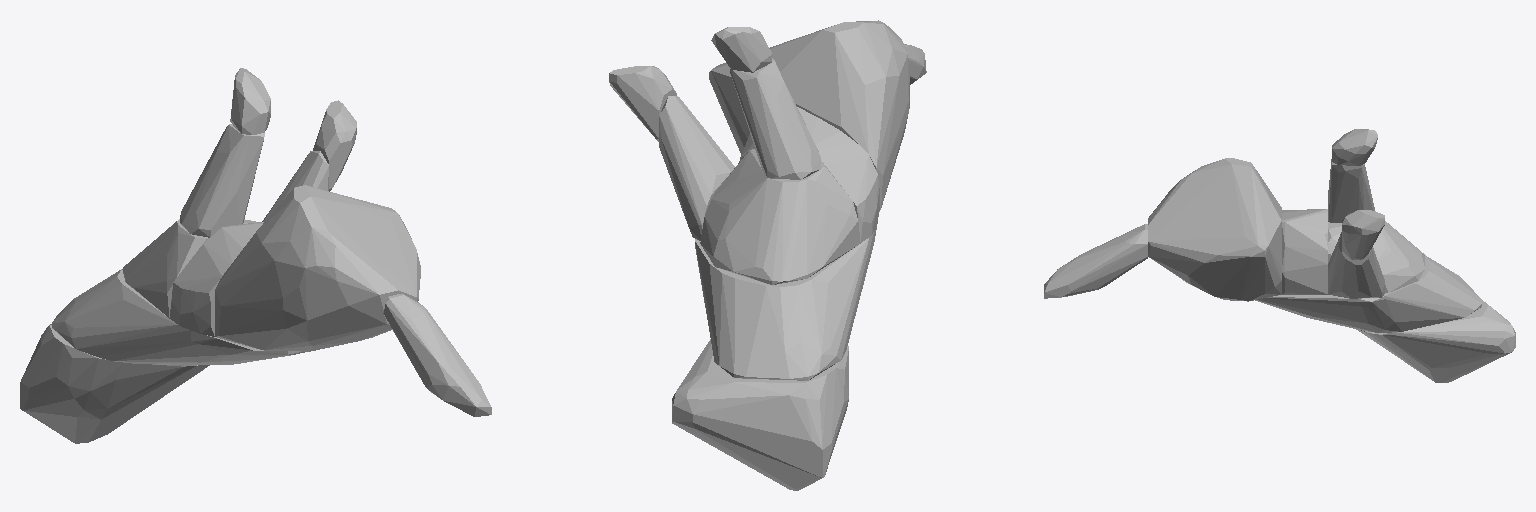
robot.urdf — root:
<robot name="root">
  <link name="link_thingiverse~dog_sculpture_2989367_convex_piece_0">
    <inertial>
      <origin rpy="0 0 0" xyz="0 0 0"/>
      <mass value="1.12E-01"/>
      <inertia ixx="3.48E-04" ixy="-7.70E-05" ixz="6.27E-05" iyy="1.72E-04" iyz="-1.59E-04" izz="2.59E-04"/>
    </inertial>
    <visual>
      <origin rpy="0 0 0" xyz="0 0 0"/>
      <geometry>
        <mesh filename="thingiverse~dog_sculpture_2989367_convex_piece_0.obj" scale="1.0000E+00 1.0000E+00 1.0000E+00"/>
      </geometry>
      <material name="">
        <color rgba="7.50E-01 7.50E-01 7.50E-01 1"/>
      </material>
    </visual>
    <collision>
      <origin rpy="0 0 0" xyz="0 0 0"/>
      <geometry>
        <mesh filename="thingiverse~dog_sculpture_2989367_convex_piece_0.obj" scale="1.0000E+00 1.0000E+00 1.0000E+00"/>
      </geometry>
    </collision>
  </link>
  <link name="link_thingiverse~dog_sculpture_2989367_convex_piece_1">
    <inertial>
      <origin rpy="0 0 0" xyz="0 0 0"/>
      <mass value="1.34E-01"/>
      <inertia ixx="1.01E-04" ixy="-2.13E-05" ixz="9.51E-06" iyy="4.20E-05" iyz="-2.82E-05" izz="1.04E-04"/>
    </inertial>
    <visual>
      <origin rpy="0 0 0" xyz="0 0 0"/>
      <geometry>
        <mesh filename="thingiverse~dog_sculpture_2989367_convex_piece_1.obj" scale="1.0000E+00 1.0000E+00 1.0000E+00"/>
      </geometry>
      <material name="">
        <color rgba="7.50E-01 7.50E-01 7.50E-01 1"/>
      </material>
    </visual>
    <collision>
      <origin rpy="0 0 0" xyz="0 0 0"/>
      <geometry>
        <mesh filename="thingiverse~dog_sculpture_2989367_convex_piece_1.obj" scale="1.0000E+00 1.0000E+00 1.0000E+00"/>
      </geometry>
    </collision>
  </link>
  <joint name="link_thingiverse~dog_sculpture_2989367_convex_piece_1_joint" type="fixed">
    <origin rpy="0 0 0" xyz="0 0 0"/>
    <parent link="link_thingiverse~dog_sculpture_2989367_convex_piece_0"/>
    <child link="link_thingiverse~dog_sculpture_2989367_convex_piece_1"/>
  </joint>
  <link name="link_thingiverse~dog_sculpture_2989367_convex_piece_2">
    <inertial>
      <origin rpy="0 0 0" xyz="0 0 0"/>
      <mass value="1.27E-02"/>
      <inertia ixx="9.12E-05" ixy="-2.03E-05" ixz="2.54E-06" iyy="6.68E-06" iyz="-1.09E-05" izz="9.41E-05"/>
    </inertial>
    <visual>
      <origin rpy="0 0 0" xyz="0 0 0"/>
      <geometry>
        <mesh filename="thingiverse~dog_sculpture_2989367_convex_piece_2.obj" scale="1.0000E+00 1.0000E+00 1.0000E+00"/>
      </geometry>
      <material name="">
        <color rgba="7.50E-01 7.50E-01 7.50E-01 1"/>
      </material>
    </visual>
    <collision>
      <origin rpy="0 0 0" xyz="0 0 0"/>
      <geometry>
        <mesh filename="thingiverse~dog_sculpture_2989367_convex_piece_2.obj" scale="1.0000E+00 1.0000E+00 1.0000E+00"/>
      </geometry>
    </collision>
  </link>
  <joint name="link_thingiverse~dog_sculpture_2989367_convex_piece_2_joint" type="fixed">
    <origin rpy="0 0 0" xyz="0 0 0"/>
    <parent link="link_thingiverse~dog_sculpture_2989367_convex_piece_1"/>
    <child link="link_thingiverse~dog_sculpture_2989367_convex_piece_2"/>
  </joint>
  <link name="link_thingiverse~dog_sculpture_2989367_convex_piece_3">
    <inertial>
      <origin rpy="0 0 0" xyz="0 0 0"/>
      <mass value="1.80E-01"/>
      <inertia ixx="3.42E-04" ixy="-7.45E-05" ixz="3.85E-05" iyy="1.35E-04" iyz="-1.26E-04" izz="3.06E-04"/>
    </inertial>
    <visual>
      <origin rpy="0 0 0" xyz="0 0 0"/>
      <geometry>
        <mesh filename="thingiverse~dog_sculpture_2989367_convex_piece_3.obj" scale="1.0000E+00 1.0000E+00 1.0000E+00"/>
      </geometry>
      <material name="">
        <color rgba="7.50E-01 7.50E-01 7.50E-01 1"/>
      </material>
    </visual>
    <collision>
      <origin rpy="0 0 0" xyz="0 0 0"/>
      <geometry>
        <mesh filename="thingiverse~dog_sculpture_2989367_convex_piece_3.obj" scale="1.0000E+00 1.0000E+00 1.0000E+00"/>
      </geometry>
    </collision>
  </link>
  <joint name="link_thingiverse~dog_sculpture_2989367_convex_piece_3_joint" type="fixed">
    <origin rpy="0 0 0" xyz="0 0 0"/>
    <parent link="link_thingiverse~dog_sculpture_2989367_convex_piece_2"/>
    <child link="link_thingiverse~dog_sculpture_2989367_convex_piece_3"/>
  </joint>
  <link name="link_thingiverse~dog_sculpture_2989367_convex_piece_4">
    <inertial>
      <origin rpy="0 0 0" xyz="0 0 0"/>
      <mass value="4.62E-02"/>
      <inertia ixx="1.16E-05" ixy="-1.16E-06" ixz="1.91E-06" iyy="1.33E-05" iyz="-3.99E-06" izz="9.77E-06"/>
    </inertial>
    <visual>
      <origin rpy="0 0 0" xyz="0 0 0"/>
      <geometry>
        <mesh filename="thingiverse~dog_sculpture_2989367_convex_piece_4.obj" scale="1.0000E+00 1.0000E+00 1.0000E+00"/>
      </geometry>
      <material name="">
        <color rgba="7.50E-01 7.50E-01 7.50E-01 1"/>
      </material>
    </visual>
    <collision>
      <origin rpy="0 0 0" xyz="0 0 0"/>
      <geometry>
        <mesh filename="thingiverse~dog_sculpture_2989367_convex_piece_4.obj" scale="1.0000E+00 1.0000E+00 1.0000E+00"/>
      </geometry>
    </collision>
  </link>
  <joint name="link_thingiverse~dog_sculpture_2989367_convex_piece_4_joint" type="fixed">
    <origin rpy="0 0 0" xyz="0 0 0"/>
    <parent link="link_thingiverse~dog_sculpture_2989367_convex_piece_3"/>
    <child link="link_thingiverse~dog_sculpture_2989367_convex_piece_4"/>
  </joint>
  <link name="link_thingiverse~dog_sculpture_2989367_convex_piece_5">
    <inertial>
      <origin rpy="0 0 0" xyz="0 0 0"/>
      <mass value="5.43E-02"/>
      <inertia ixx="2.02E-05" ixy="-1.12E-06" ixz="-2.13E-07" iyy="1.02E-05" iyz="5.04E-06" izz="2.03E-05"/>
    </inertial>
    <visual>
      <origin rpy="0 0 0" xyz="0 0 0"/>
      <geometry>
        <mesh filename="thingiverse~dog_sculpture_2989367_convex_piece_5.obj" scale="1.0000E+00 1.0000E+00 1.0000E+00"/>
      </geometry>
      <material name="">
        <color rgba="7.50E-01 7.50E-01 7.50E-01 1"/>
      </material>
    </visual>
    <collision>
      <origin rpy="0 0 0" xyz="0 0 0"/>
      <geometry>
        <mesh filename="thingiverse~dog_sculpture_2989367_convex_piece_5.obj" scale="1.0000E+00 1.0000E+00 1.0000E+00"/>
      </geometry>
    </collision>
  </link>
  <joint name="link_thingiverse~dog_sculpture_2989367_convex_piece_5_joint" type="fixed">
    <origin rpy="0 0 0" xyz="0 0 0"/>
    <parent link="link_thingiverse~dog_sculpture_2989367_convex_piece_4"/>
    <child link="link_thingiverse~dog_sculpture_2989367_convex_piece_5"/>
  </joint>
  <link name="link_thingiverse~dog_sculpture_2989367_convex_piece_6">
    <inertial>
      <origin rpy="0 0 0" xyz="0 0 0"/>
      <mass value="1.37E-02"/>
      <inertia ixx="5.44E-06" ixy="3.97E-06" ixz="5.22E-06" iyy="1.29E-05" iyz="2.04E-06" izz="1.15E-05"/>
    </inertial>
    <visual>
      <origin rpy="0 0 0" xyz="0 0 0"/>
      <geometry>
        <mesh filename="thingiverse~dog_sculpture_2989367_convex_piece_6.obj" scale="1.0000E+00 1.0000E+00 1.0000E+00"/>
      </geometry>
      <material name="">
        <color rgba="7.50E-01 7.50E-01 7.50E-01 1"/>
      </material>
    </visual>
    <collision>
      <origin rpy="0 0 0" xyz="0 0 0"/>
      <geometry>
        <mesh filename="thingiverse~dog_sculpture_2989367_convex_piece_6.obj" scale="1.0000E+00 1.0000E+00 1.0000E+00"/>
      </geometry>
    </collision>
  </link>
  <joint name="link_thingiverse~dog_sculpture_2989367_convex_piece_6_joint" type="fixed">
    <origin rpy="0 0 0" xyz="0 0 0"/>
    <parent link="link_thingiverse~dog_sculpture_2989367_convex_piece_5"/>
    <child link="link_thingiverse~dog_sculpture_2989367_convex_piece_6"/>
  </joint>
  <link name="link_thingiverse~dog_sculpture_2989367_convex_piece_7">
    <inertial>
      <origin rpy="0 0 0" xyz="0 0 0"/>
      <mass value="5.50E-03"/>
      <inertia ixx="7.76E-06" ixy="3.02E-06" ixz="7.90E-06" iyy="1.61E-05" iyz="2.54E-06" izz="1.04E-05"/>
    </inertial>
    <visual>
      <origin rpy="0 0 0" xyz="0 0 0"/>
      <geometry>
        <mesh filename="thingiverse~dog_sculpture_2989367_convex_piece_7.obj" scale="1.0000E+00 1.0000E+00 1.0000E+00"/>
      </geometry>
      <material name="">
        <color rgba="7.50E-01 7.50E-01 7.50E-01 1"/>
      </material>
    </visual>
    <collision>
      <origin rpy="0 0 0" xyz="0 0 0"/>
      <geometry>
        <mesh filename="thingiverse~dog_sculpture_2989367_convex_piece_7.obj" scale="1.0000E+00 1.0000E+00 1.0000E+00"/>
      </geometry>
    </collision>
  </link>
  <joint name="link_thingiverse~dog_sculpture_2989367_convex_piece_7_joint" type="fixed">
    <origin rpy="0 0 0" xyz="0 0 0"/>
    <parent link="link_thingiverse~dog_sculpture_2989367_convex_piece_6"/>
    <child link="link_thingiverse~dog_sculpture_2989367_convex_piece_7"/>
  </joint>
  <link name="link_thingiverse~dog_sculpture_2989367_convex_piece_8">
    <inertial>
      <origin rpy="0 0 0" xyz="0 0 0"/>
      <mass value="1.43E-02"/>
      <inertia ixx="1.83E-05" ixy="3.05E-07" ixz="1.63E-06" iyy="1.75E-05" iyz="4.18E-06" izz="1.81E-06"/>
    </inertial>
    <visual>
      <origin rpy="0 0 0" xyz="0 0 0"/>
      <geometry>
        <mesh filename="thingiverse~dog_sculpture_2989367_convex_piece_8.obj" scale="1.0000E+00 1.0000E+00 1.0000E+00"/>
      </geometry>
      <material name="">
        <color rgba="7.50E-01 7.50E-01 7.50E-01 1"/>
      </material>
    </visual>
    <collision>
      <origin rpy="0 0 0" xyz="0 0 0"/>
      <geometry>
        <mesh filename="thingiverse~dog_sculpture_2989367_convex_piece_8.obj" scale="1.0000E+00 1.0000E+00 1.0000E+00"/>
      </geometry>
    </collision>
  </link>
  <joint name="link_thingiverse~dog_sculpture_2989367_convex_piece_8_joint" type="fixed">
    <origin rpy="0 0 0" xyz="0 0 0"/>
    <parent link="link_thingiverse~dog_sculpture_2989367_convex_piece_7"/>
    <child link="link_thingiverse~dog_sculpture_2989367_convex_piece_8"/>
  </joint>
  <link name="link_thingiverse~dog_sculpture_2989367_convex_piece_9">
    <inertial>
      <origin rpy="0 0 0" xyz="0 0 0"/>
      <mass value="3.93E-03"/>
      <inertia ixx="1.26E-05" ixy="5.11E-07" ixz="2.61E-06" iyy="1.27E-05" iyz="2.34E-06" izz="1.10E-06"/>
    </inertial>
    <visual>
      <origin rpy="0 0 0" xyz="0 0 0"/>
      <geometry>
        <mesh filename="thingiverse~dog_sculpture_2989367_convex_piece_9.obj" scale="1.0000E+00 1.0000E+00 1.0000E+00"/>
      </geometry>
      <material name="">
        <color rgba="7.50E-01 7.50E-01 7.50E-01 1"/>
      </material>
    </visual>
    <collision>
      <origin rpy="0 0 0" xyz="0 0 0"/>
      <geometry>
        <mesh filename="thingiverse~dog_sculpture_2989367_convex_piece_9.obj" scale="1.0000E+00 1.0000E+00 1.0000E+00"/>
      </geometry>
    </collision>
  </link>
  <joint name="link_thingiverse~dog_sculpture_2989367_convex_piece_9_joint" type="fixed">
    <origin rpy="0 0 0" xyz="0 0 0"/>
    <parent link="link_thingiverse~dog_sculpture_2989367_convex_piece_8"/>
    <child link="link_thingiverse~dog_sculpture_2989367_convex_piece_9"/>
  </joint>
</robot>

--- Facts derived from the render (not from the file) ---
The picture shows the robot from 3 angles, left to right: view 1: azimuth 30°, elevation 25°; view 2: azimuth 150°, elevation 25°; view 3: azimuth 270°, elevation 25°; orthographic projection.
Model root with 10 links and 9 joints (9 fixed), rooted at link_thingiverse~dog_sculpture_2989367_convex_piece_0, posed every joint at zero.
Links seen in each view (by area): view 1: link_thingiverse~dog_sculpture_2989367_convex_piece_3, link_thingiverse~dog_sculpture_2989367_convex_piece_0, link_thingiverse~dog_sculpture_2989367_convex_piece_1, link_thingiverse~dog_sculpture_2989367_convex_piece_2, link_thingiverse~dog_sculpture_2989367_convex_piece_8, link_thingiverse~dog_sculpture_2989367_convex_piece_4, link_thingiverse~dog_sculpture_2989367_convex_piece_5, link_thingiverse~dog_sculpture_2989367_convex_piece_7, link_thingiverse~dog_sculpture_2989367_convex_piece_9, link_thingiverse~dog_sculpture_2989367_convex_piece_6; view 2: link_thingiverse~dog_sculpture_2989367_convex_piece_1, link_thingiverse~dog_sculpture_2989367_convex_piece_0, link_thingiverse~dog_sculpture_2989367_convex_piece_3, link_thingiverse~dog_sculpture_2989367_convex_piece_5, link_thingiverse~dog_sculpture_2989367_convex_piece_8, link_thingiverse~dog_sculpture_2989367_convex_piece_6, link_thingiverse~dog_sculpture_2989367_convex_piece_4, link_thingiverse~dog_sculpture_2989367_convex_piece_7, link_thingiverse~dog_sculpture_2989367_convex_piece_9, link_thingiverse~dog_sculpture_2989367_convex_piece_2; view 3: link_thingiverse~dog_sculpture_2989367_convex_piece_3, link_thingiverse~dog_sculpture_2989367_convex_piece_1, link_thingiverse~dog_sculpture_2989367_convex_piece_0, link_thingiverse~dog_sculpture_2989367_convex_piece_4, link_thingiverse~dog_sculpture_2989367_convex_piece_2, link_thingiverse~dog_sculpture_2989367_convex_piece_5, link_thingiverse~dog_sculpture_2989367_convex_piece_6, link_thingiverse~dog_sculpture_2989367_convex_piece_8, link_thingiverse~dog_sculpture_2989367_convex_piece_7, link_thingiverse~dog_sculpture_2989367_convex_piece_9.
Boxes of the visible links, <box> form: link_thingiverse~dog_sculpture_2989367_convex_piece_3: <box>215,185,420,351</box>; link_thingiverse~dog_sculpture_2989367_convex_piece_0: <box>20,324,209,443</box>; link_thingiverse~dog_sculpture_2989367_convex_piece_1: <box>52,269,304,364</box>; link_thingiverse~dog_sculpture_2989367_convex_piece_2: <box>383,294,491,416</box>; link_thingiverse~dog_sculpture_2989367_convex_piece_8: <box>180,124,264,237</box>; link_thingiverse~dog_sculpture_2989367_convex_piece_4: <box>169,222,263,336</box>; link_thingiverse~dog_sculpture_2989367_convex_piece_5: <box>122,219,256,317</box>; link_thingiverse~dog_sculpture_2989367_convex_piece_7: <box>313,100,356,191</box>; link_thingiverse~dog_sculpture_2989367_convex_piece_9: <box>230,68,270,134</box>; link_thingiverse~dog_sculpture_2989367_convex_piece_6: <box>262,151,328,221</box>; link_thingiverse~dog_sculpture_2989367_convex_piece_1: <box>695,226,876,380</box>; link_thingiverse~dog_sculpture_2989367_convex_piece_0: <box>672,339,848,490</box>; link_thingiverse~dog_sculpture_2989367_convex_piece_3: <box>709,20,909,211</box>; link_thingiverse~dog_sculpture_2989367_convex_piece_5: <box>700,149,860,284</box>; link_thingiverse~dog_sculpture_2989367_convex_piece_8: <box>730,58,820,179</box>; link_thingiverse~dog_sculpture_2989367_convex_piece_6: <box>659,96,734,240</box>; link_thingiverse~dog_sculpture_2989367_convex_piece_4: <box>739,107,879,242</box>; link_thingiverse~dog_sculpture_2989367_convex_piece_7: <box>609,66,676,141</box>; link_thingiverse~dog_sculpture_2989367_convex_piece_9: <box>711,27,771,72</box>; link_thingiverse~dog_sculpture_2989367_convex_piece_2: <box>905,44,926,84</box>; link_thingiverse~dog_sculpture_2989367_convex_piece_3: <box>1148,158,1281,301</box>; link_thingiverse~dog_sculpture_2989367_convex_piece_1: <box>1255,255,1481,332</box>; link_thingiverse~dog_sculpture_2989367_convex_piece_0: <box>1356,300,1515,382</box>; link_thingiverse~dog_sculpture_2989367_convex_piece_4: <box>1282,209,1327,294</box>; link_thingiverse~dog_sculpture_2989367_convex_piece_2: <box>1044,224,1147,298</box>; link_thingiverse~dog_sculpture_2989367_convex_piece_5: <box>1328,221,1424,292</box>; link_thingiverse~dog_sculpture_2989367_convex_piece_6: <box>1328,232,1384,298</box>; link_thingiverse~dog_sculpture_2989367_convex_piece_8: <box>1328,159,1374,222</box>; link_thingiverse~dog_sculpture_2989367_convex_piece_7: <box>1342,210,1384,259</box>; link_thingiverse~dog_sculpture_2989367_convex_piece_9: <box>1332,129,1377,165</box>.
Bounding box of the posed robot: 0.0884 × 0.1756 × 0.1208 m (x, y, z).
10 mesh visuals loaded from 10 distinct referenced files (10 OBJ).
